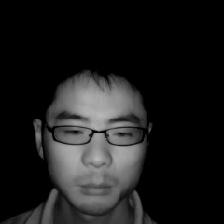sad: (32, 62, 153, 217)
